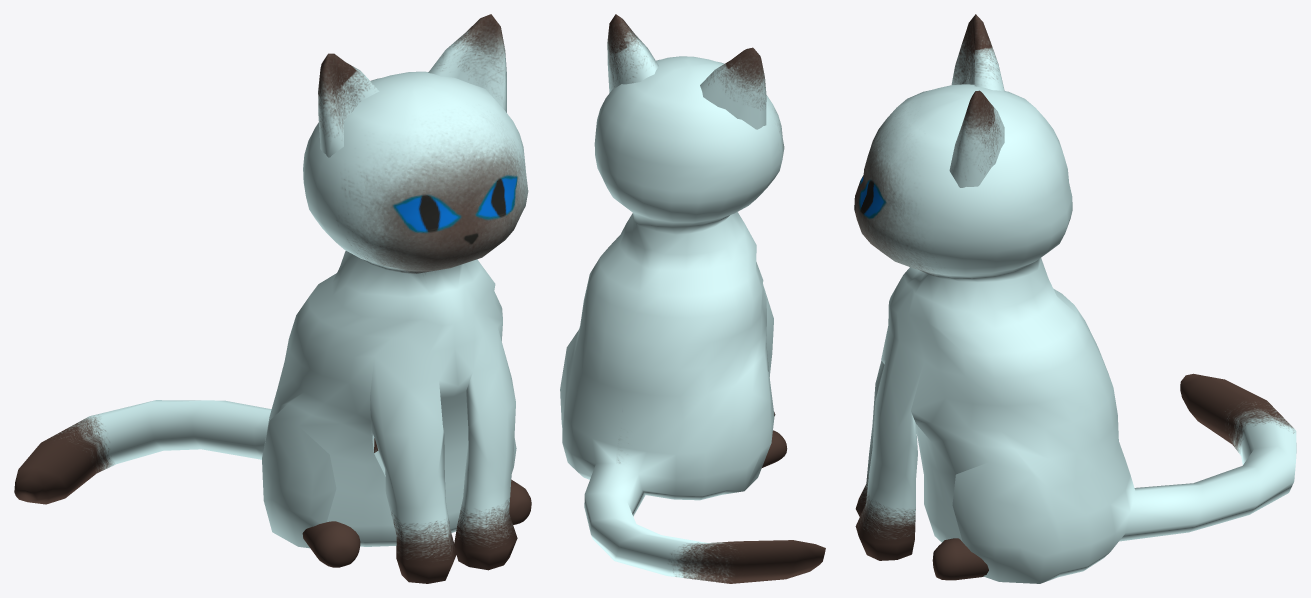
File: dynamic tail cat.fbx
3 renders of one model, left to right at view 1: azimuth 30°, elevation 25°; view 2: azimuth 150°, elevation 25°; view 3: azimuth 270°, elevation 25°, orthographic. The views are drawn at different scales.
Parts seen in each view (by area): view 1: Jewel; view 2: Jewel; view 3: Jewel.
Part boxes in pixels (<box>): Jewel: <box>14,14,531,583</box>; Jewel: <box>560,14,825,583</box>; Jewel: <box>854,14,1296,583</box>.
Bounding box in the file's own units: 4.45 × 5.41 × 4.46.
